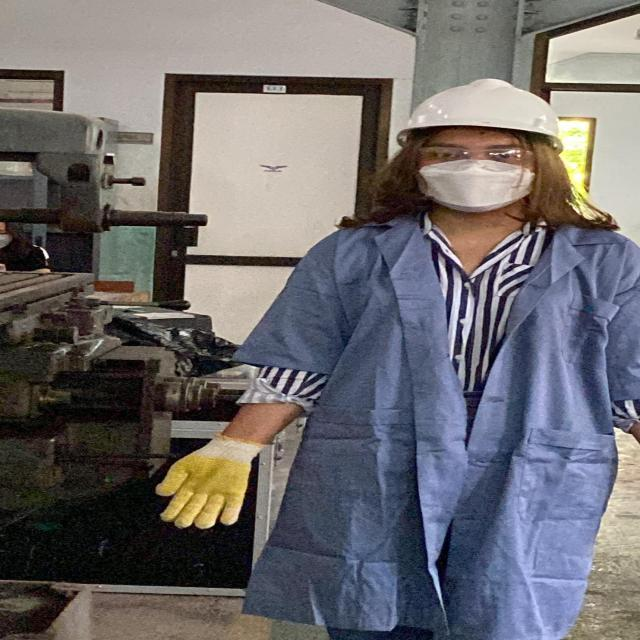glasses: (412, 142, 543, 171)
